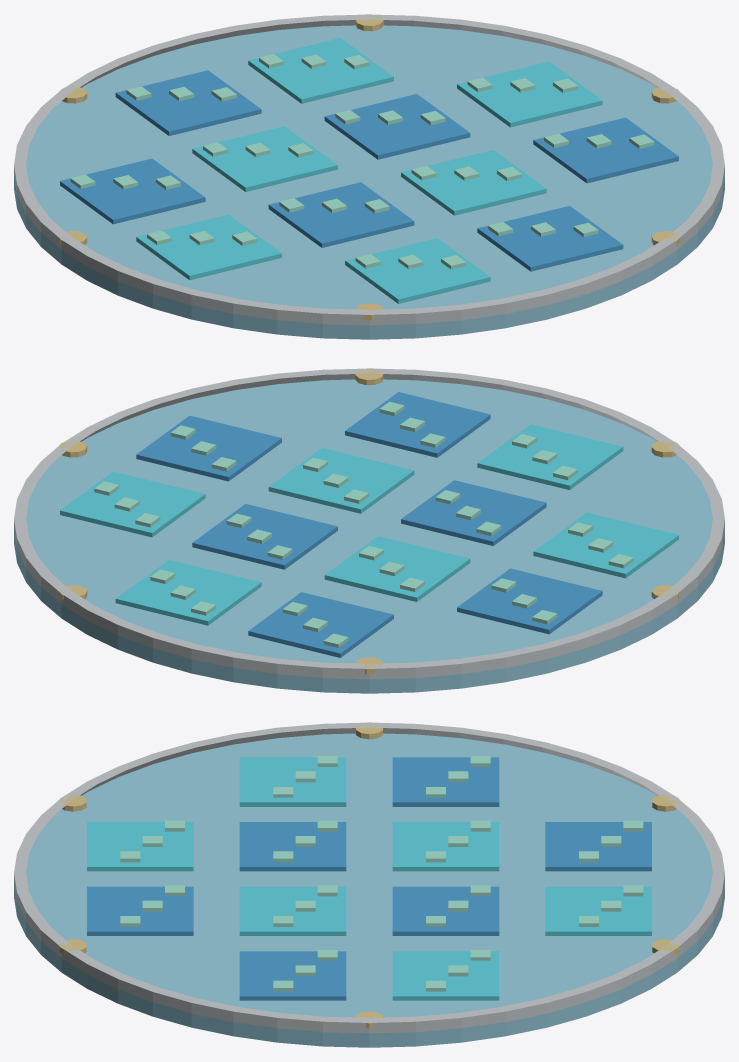
File: 24_L75_PatternedSiliconWafer.glb
The picture shows the model from 3 angles, top to bottom: view 1: azimuth 30°, elevation 25°; view 2: azimuth 150°, elevation 25°; view 3: azimuth 270°, elevation 25°; orthographic projection.
Visible parts, largest first — view 1: PatternedSiliconWafer_Node_0000, PatternedSiliconWafer_Node_0001, PatternedSiliconWafer_Node_0030, PatternedSiliconWafer_Node_0038, PatternedSiliconWafer_Node_0018, PatternedSiliconWafer_Node_0014, PatternedSiliconWafer_Node_0042, PatternedSiliconWafer_Node_0022, PatternedSiliconWafer_Node_0046, PatternedSiliconWafer_Node_0006, PatternedSiliconWafer_Node_0034, PatternedSiliconWafer_Node_0010 (+2 smaller); view 2: PatternedSiliconWafer_Node_0000, PatternedSiliconWafer_Node_0001, PatternedSiliconWafer_Node_0042, PatternedSiliconWafer_Node_0026, PatternedSiliconWafer_Node_0046, PatternedSiliconWafer_Node_0006, PatternedSiliconWafer_Node_0038, PatternedSiliconWafer_Node_0030, PatternedSiliconWafer_Node_0010, PatternedSiliconWafer_Node_0018, PatternedSiliconWafer_Node_0034, PatternedSiliconWafer_Node_0002 (+2 smaller); view 3: PatternedSiliconWafer_Node_0000, PatternedSiliconWafer_Node_0001, PatternedSiliconWafer_Node_0046, PatternedSiliconWafer_Node_0042, PatternedSiliconWafer_Node_0006, PatternedSiliconWafer_Node_0018, PatternedSiliconWafer_Node_0002, PatternedSiliconWafer_Node_0014, PatternedSiliconWafer_Node_0034, PatternedSiliconWafer_Node_0030, PatternedSiliconWafer_Node_0022, PatternedSiliconWafer_Node_0010 (+2 smaller).
Boxes of the visible parts, box(x1,y1,x2,y2) form: PatternedSiliconWafer_Node_0000: box(14, 25, 724, 339); PatternedSiliconWafer_Node_0001: box(14, 14, 724, 325); PatternedSiliconWafer_Node_0030: box(324, 94, 470, 159); PatternedSiliconWafer_Node_0038: box(477, 206, 623, 271); PatternedSiliconWafer_Node_0018: box(268, 182, 414, 247); PatternedSiliconWafer_Node_0014: box(192, 126, 337, 191); PatternedSiliconWafer_Node_0042: box(457, 61, 602, 127); PatternedSiliconWafer_Node_0022: box(345, 238, 490, 303); PatternedSiliconWafer_Node_0046: box(533, 117, 678, 183); PatternedSiliconWafer_Node_0006: box(136, 214, 281, 280); PatternedSiliconWafer_Node_0034: box(401, 150, 546, 215); PatternedSiliconWafer_Node_0010: box(115, 70, 261, 135); PatternedSiliconWafer_Node_0000: box(14, 379, 724, 693); PatternedSiliconWafer_Node_0001: box(14, 368, 724, 679); PatternedSiliconWafer_Node_0042: box(60, 471, 205, 537); PatternedSiliconWafer_Node_0026: box(115, 560, 261, 625); PatternedSiliconWafer_Node_0046: box(136, 415, 281, 481); PatternedSiliconWafer_Node_0006: box(533, 512, 678, 578); PatternedSiliconWafer_Node_0038: box(345, 392, 490, 457); PatternedSiliconWafer_Node_0030: box(192, 504, 337, 569); PatternedSiliconWafer_Node_0010: box(248, 592, 393, 657); PatternedSiliconWafer_Node_0018: box(401, 480, 546, 545); PatternedSiliconWafer_Node_0034: box(268, 448, 414, 513); PatternedSiliconWafer_Node_0002: box(457, 568, 602, 634); PatternedSiliconWafer_Node_0000: box(14, 733, 724, 1047); PatternedSiliconWafer_Node_0001: box(14, 722, 724, 1033); PatternedSiliconWafer_Node_0046: box(239, 951, 346, 1000); PatternedSiliconWafer_Node_0042: box(392, 951, 499, 1000); PatternedSiliconWafer_Node_0006: box(239, 757, 346, 806); PatternedSiliconWafer_Node_0018: box(239, 822, 346, 871); PatternedSiliconWafer_Node_0002: box(392, 757, 499, 806); PatternedSiliconWafer_Node_0014: box(392, 822, 499, 871); PatternedSiliconWafer_Node_0034: box(239, 886, 346, 935); PatternedSiliconWafer_Node_0030: box(392, 886, 499, 935); PatternedSiliconWafer_Node_0022: box(87, 822, 193, 871); PatternedSiliconWafer_Node_0010: box(545, 822, 651, 871).
Size of the model in its own units: 1.6 by 0.0625 by 1.6.
